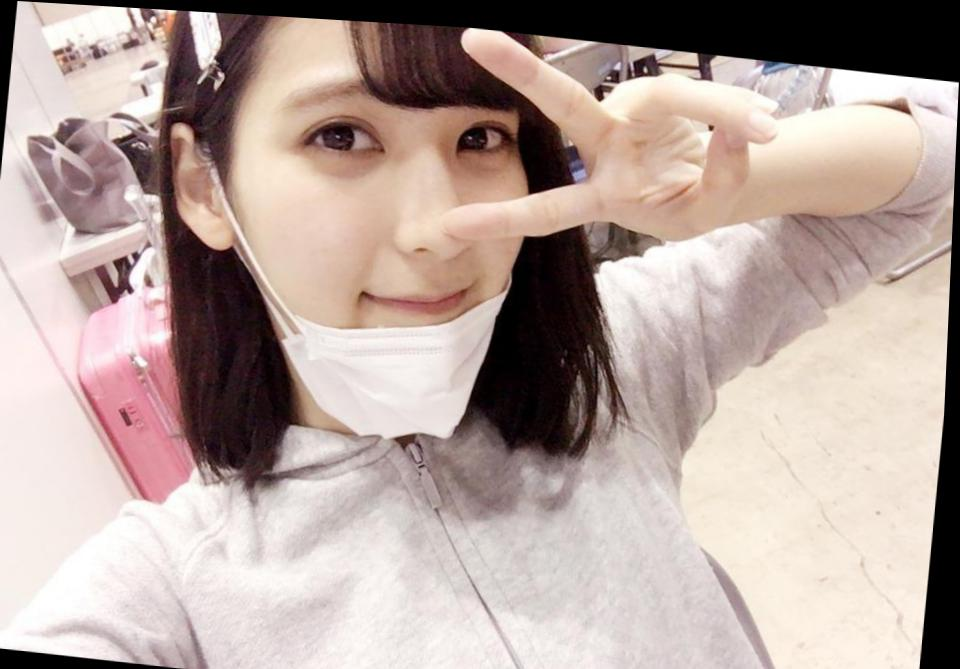WRONG: (214, 19, 551, 406)
